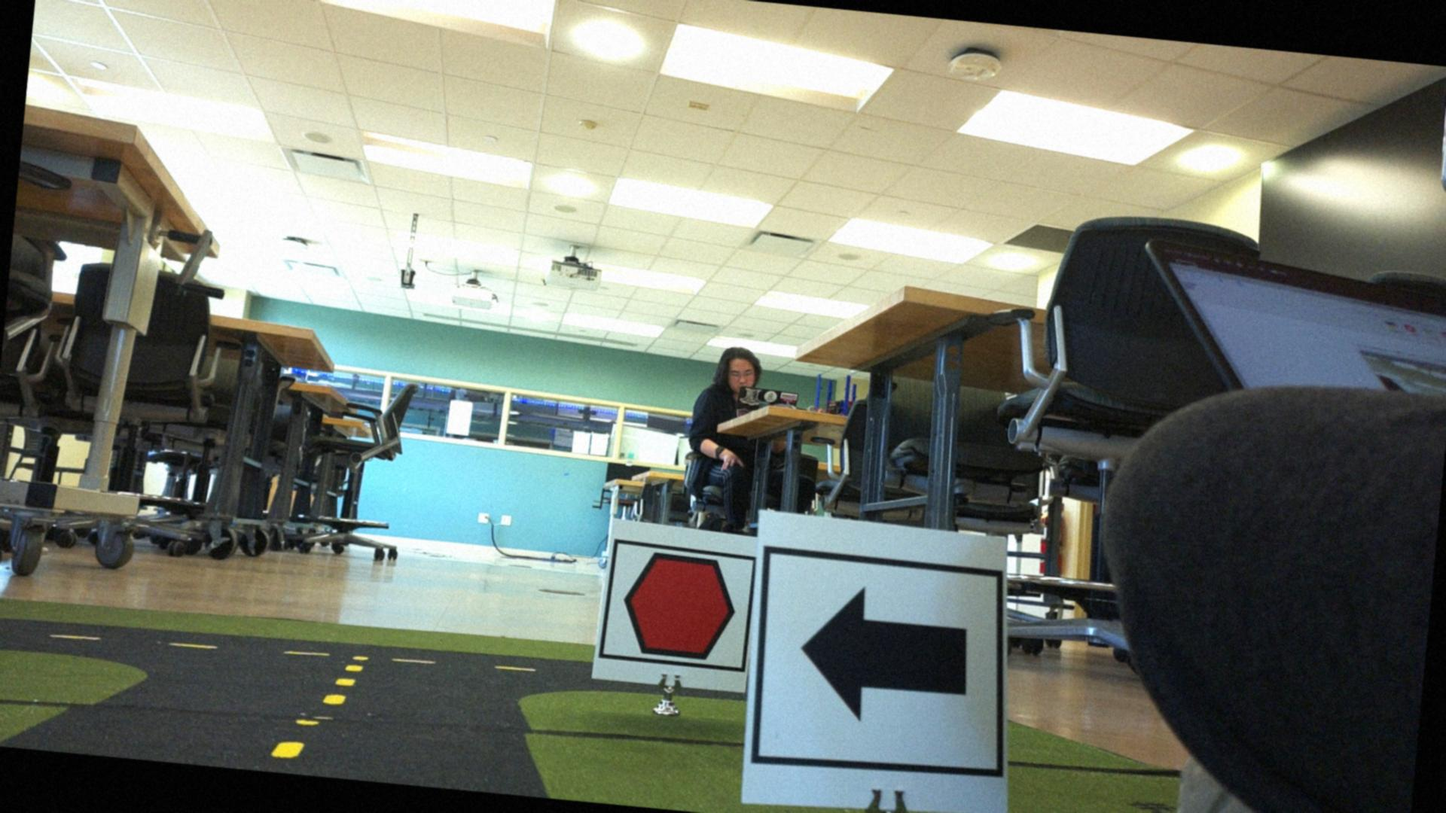stop: (605, 546, 753, 671)
turnright: (748, 553, 1004, 788)
yellowline: (272, 658, 365, 769)
